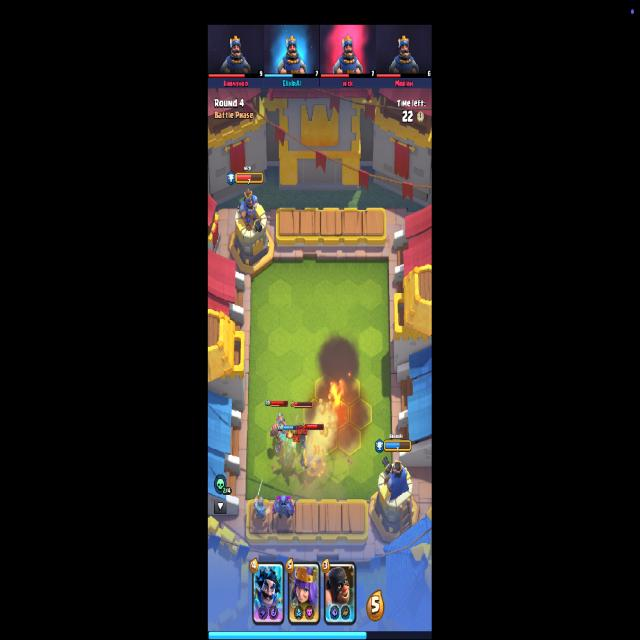baby_dragon: (280, 430, 298, 466)
card_archer_queen: (288, 561, 320, 626)
card_e_wiz: (252, 562, 284, 626)
card_executioner: (324, 560, 356, 626)
goblin_machine: (269, 413, 291, 454)
knight: (254, 478, 271, 520)
mega_knight: (302, 438, 326, 477)
pekka: (273, 494, 297, 520)
